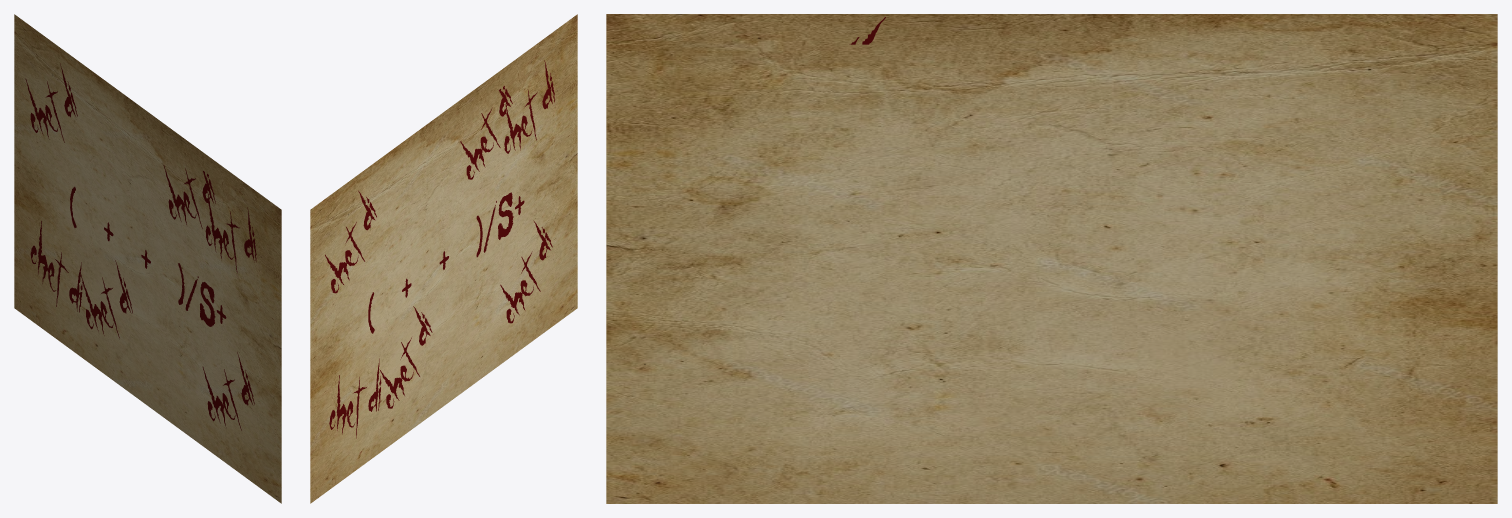
File: GiayMoi.fbx
The picture shows the model from 3 angles, left to right: view 1: azimuth 30°, elevation 25°; view 2: azimuth 150°, elevation 25°; view 3: azimuth 270°, elevation 25°; orthographic projection. The views are drawn at different scales.
Parts seen in each view (by area): view 1: Plane, Text, Text.002, Text.001, Text.003, Text.004, Text.006, Text.005; view 2: Plane, Text, Text.001, Text.002, Text.003, Text.004, Text.006, Text.005; view 3: Plane.
Part boxes in pixels (x1,y1,x2,y2): Plane: (14,14,281,503); Text: (70,186,226,326); Text.002: (205,193,256,273); Text.001: (30,221,82,312); Text.003: (25,63,77,142); Text.004: (202,352,254,430); Text.006: (81,260,132,338); Text.005: (163,165,215,228); Plane: (310,14,577,503); Text: (368,192,524,333); Text.001: (329,358,381,438); Text.002: (504,60,554,153); Text.003: (325,190,376,293); Text.004: (500,220,552,323); Text.006: (380,306,432,408); Text.005: (460,86,512,179); Plane: (606,14,1497,503).
Size of the model in its own units: 0.2197 by 23.13 by 38.14.
